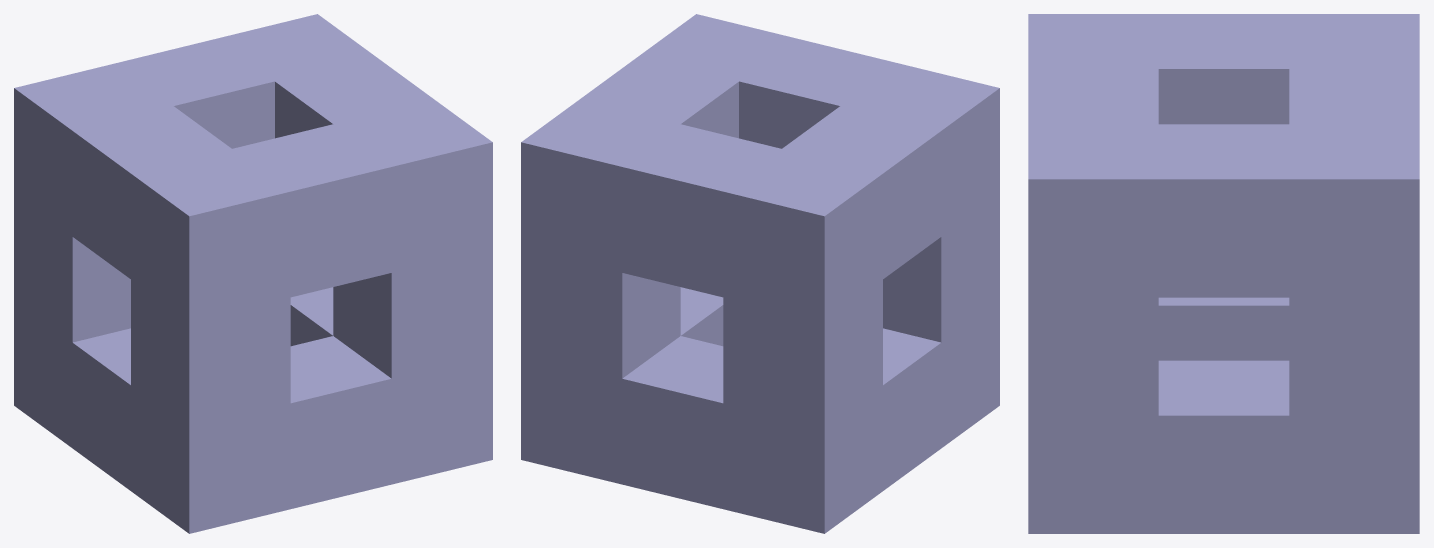
The picture shows the model from 3 angles, left to right: view 1: azimuth 30°, elevation 25°; view 2: azimuth 150°, elevation 25°; view 3: azimuth 270°, elevation 25°; orthographic projection. The views are drawn at different scales.
Bounding box in the file's own units: 0.15 × 0.15 × 0.15.
